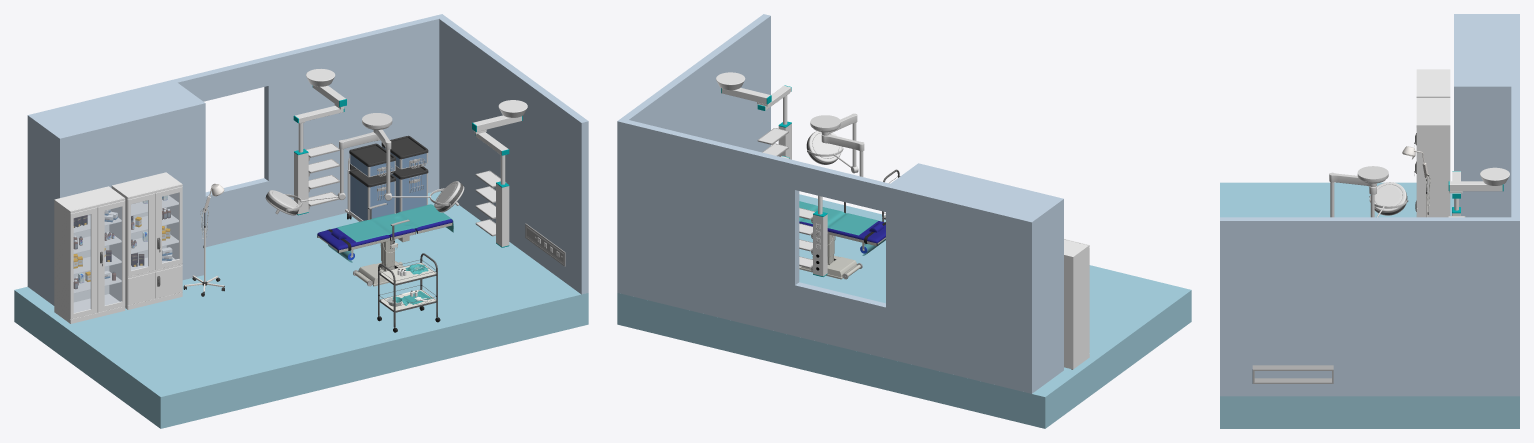
Rendered from hospital_operating_room.glb.
3 renders of one model, left to right at view 1: azimuth 30°, elevation 25°; view 2: azimuth 150°, elevation 25°; view 3: azimuth 270°, elevation 25°, orthographic. The views are drawn at different scales.
Parts seen in each view (by area): view 1: Obj3d66-594498-7-446_5, Obj3d66-594498-3-646_2, Obj3d66-594498-2-455_1, Obj3d66-594498-1-135_0, Obj3d66-594498-447-830_219, Obj3d66-594498-455-169_227, Obj3d66-594498-5-843_3, Obj3d66-594498-448-451_220, Obj3d66-594498-90-834_29, Obj3d66-594498-6-276_4, Obj3d66-594498-456-704_228, Obj3d66-594498-87-238_25 (+12 smaller); view 2: Obj3d66-594498-1-135_0, Obj3d66-594498-2-455_1, Obj3d66-594498-7-446_5, Obj3d66-594498-3-646_2, Obj3d66-594498-5-843_3, Obj3d66-594498-447-830_219, Obj3d66-594498-6-276_4, Obj3d66-594498-90-834_29, Obj3d66-594498-87-238_25, Obj3d66-594498-68-661_6, Obj3d66-594498-148-454_83; view 3: Obj3d66-594498-3-646_2, Obj3d66-594498-7-446_5, Obj3d66-594498-1-135_0, Obj3d66-594498-455-169_227, Obj3d66-594498-90-834_29, Obj3d66-594498-134-488_65, Obj3d66-594498-447-830_219, Obj3d66-594498-2-455_1, Obj3d66-594498-141-624_76, Obj3d66-594498-144-267_79, Obj3d66-594498-6-276_4.
Part boxes in pixels (x1=…): Obj3d66-594498-7-446_5: x1=14, y1=191, x2=588, y2=428; Obj3d66-594498-3-646_2: x1=435, y1=14, x2=588, y2=294; Obj3d66-594498-2-455_1: x1=264, y1=16, x2=439, y2=231; Obj3d66-594498-1-135_0: x1=27, y1=79, x2=205, y2=305; Obj3d66-594498-447-830_219: x1=54, y1=186, x2=125, y2=323; Obj3d66-594498-455-169_227: x1=111, y1=172, x2=182, y2=309; Obj3d66-594498-5-843_3: x1=205, y1=178, x2=268, y2=247; Obj3d66-594498-448-451_220: x1=74, y1=207, x2=121, y2=312; Obj3d66-594498-90-834_29: x1=265, y1=113, x2=464, y2=215; Obj3d66-594498-6-276_4: x1=174, y1=57, x2=268, y2=101; Obj3d66-594498-456-704_228: x1=131, y1=193, x2=178, y2=270; Obj3d66-594498-87-238_25: x1=336, y1=204, x2=453, y2=242; Obj3d66-594498-1-135_0: x1=886, y1=163, x2=1063, y2=393; Obj3d66-594498-2-455_1: x1=624, y1=120, x2=799, y2=335; Obj3d66-594498-7-446_5: x1=617, y1=194, x2=1191, y2=428; Obj3d66-594498-3-646_2: x1=617, y1=14, x2=770, y2=294; Obj3d66-594498-5-843_3: x1=795, y1=282, x2=885, y2=358; Obj3d66-594498-447-830_219: x1=1064, y1=239, x2=1089, y2=369; Obj3d66-594498-6-276_4: x1=795, y1=161, x2=889, y2=211; Obj3d66-594498-90-834_29: x1=806, y1=113, x2=885, y2=218; Obj3d66-594498-87-238_25: x1=799, y1=201, x2=878, y2=235; Obj3d66-594498-68-661_6: x1=799, y1=231, x2=885, y2=279; Obj3d66-594498-148-454_83: x1=813, y1=214, x2=827, y2=276; Obj3d66-594498-3-646_2: x1=1220, y1=217, x2=1519, y2=396; Obj3d66-594498-7-446_5: x1=1220, y1=182, x2=1519, y2=428; Obj3d66-594498-1-135_0: x1=1454, y1=14, x2=1519, y2=217; Obj3d66-594498-455-169_227: x1=1416, y1=98, x2=1450, y2=217; Obj3d66-594498-90-834_29: x1=1329, y1=166, x2=1408, y2=217; Obj3d66-594498-134-488_65: x1=1252, y1=365, x2=1333, y2=383; Obj3d66-594498-447-830_219: x1=1416, y1=69, x2=1450, y2=97; Obj3d66-594498-2-455_1: x1=1511, y1=132, x2=1519, y2=217; Obj3d66-594498-141-624_76: x1=1449, y1=181, x2=1502, y2=191; Obj3d66-594498-144-267_79: x1=1480, y1=167, x2=1509, y2=185; Obj3d66-594498-6-276_4: x1=1511, y1=86, x2=1519, y2=132.
Bounding box in the file's own units: 7.19 × 3.2 × 4.18.
Materials: 86 (8 with a texture image).
